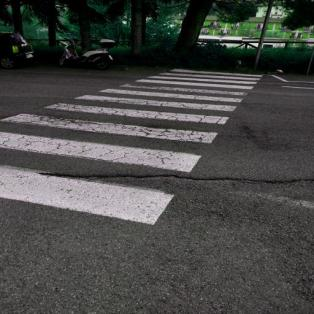Paso de Cebra: (1, 101, 249, 146), (142, 71, 261, 87)
